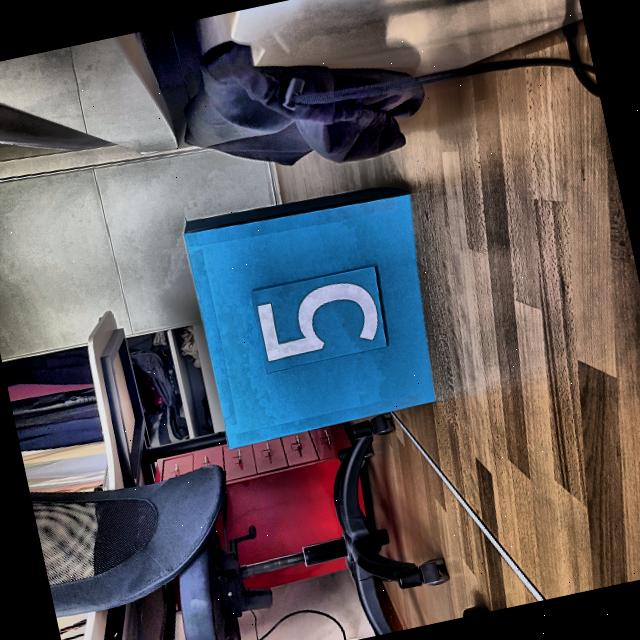blue box: (176, 165, 460, 454)
five: (251, 272, 389, 368)
